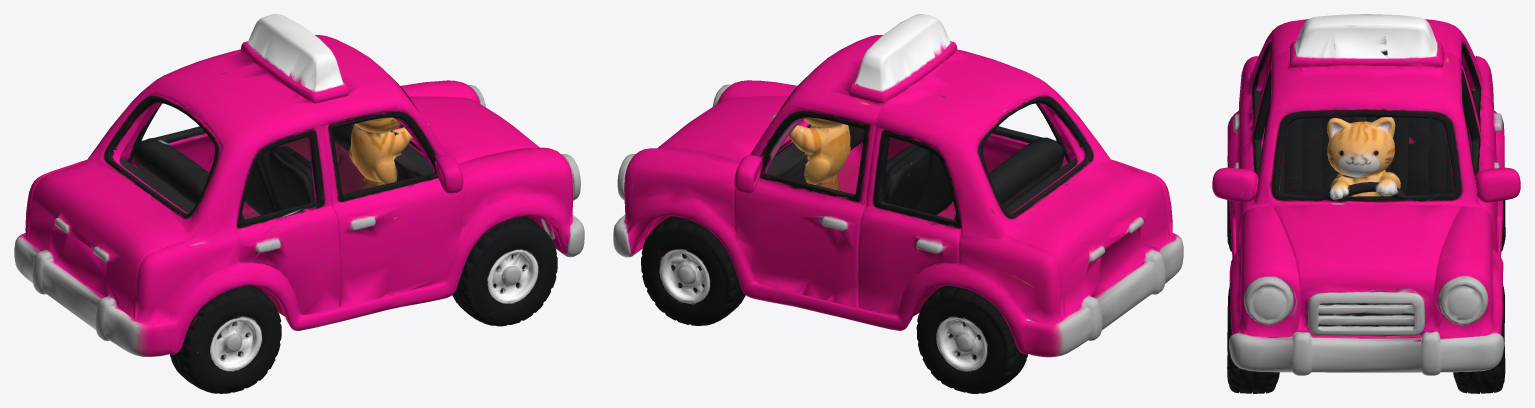
The model's file is taxi.glb.
3 views of the same model, side by side, from view 1: azimuth 30°, elevation 25°; view 2: azimuth 150°, elevation 25°; view 3: azimuth 270°, elevation 25° (orthographic). The views are drawn at different scales.
Visible parts, largest first — view 1: taxi, wheel_1, wheel_3; view 2: taxi, wheel_0, wheel_2; view 3: taxi, wheel_3, wheel_2.
Part boxes in pixels (box(x1,y1,x2,y2)): taxi: box(14, 14, 584, 356); wheel_1: box(170, 285, 281, 393); wheel_3: box(452, 216, 557, 326); taxi: box(613, 14, 1183, 357); wheel_0: box(916, 285, 1027, 393); wheel_2: box(641, 216, 745, 325); taxi: box(1212, 14, 1520, 375); wheel_3: box(1227, 282, 1279, 393); wheel_2: box(1453, 283, 1505, 393).
Size of the model in its own units: 3.9 by 2.27 by 2.17.
1 material, 1 textured.
